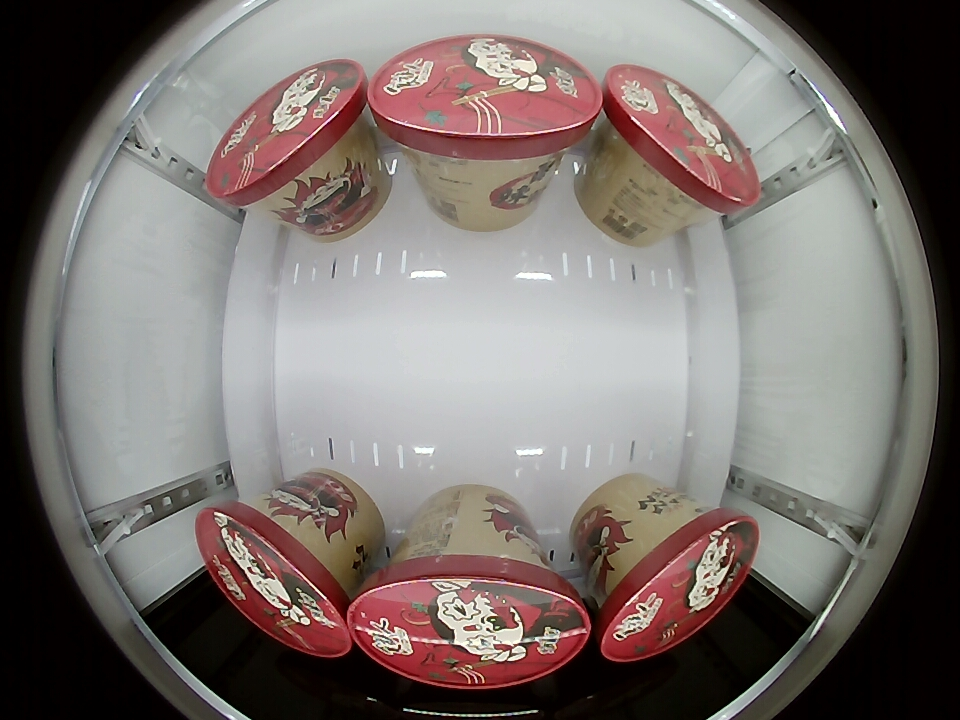suanlafen: (347, 547, 592, 689), (368, 36, 604, 172), (593, 506, 759, 664), (195, 499, 356, 659), (600, 63, 760, 216), (207, 60, 370, 207)
